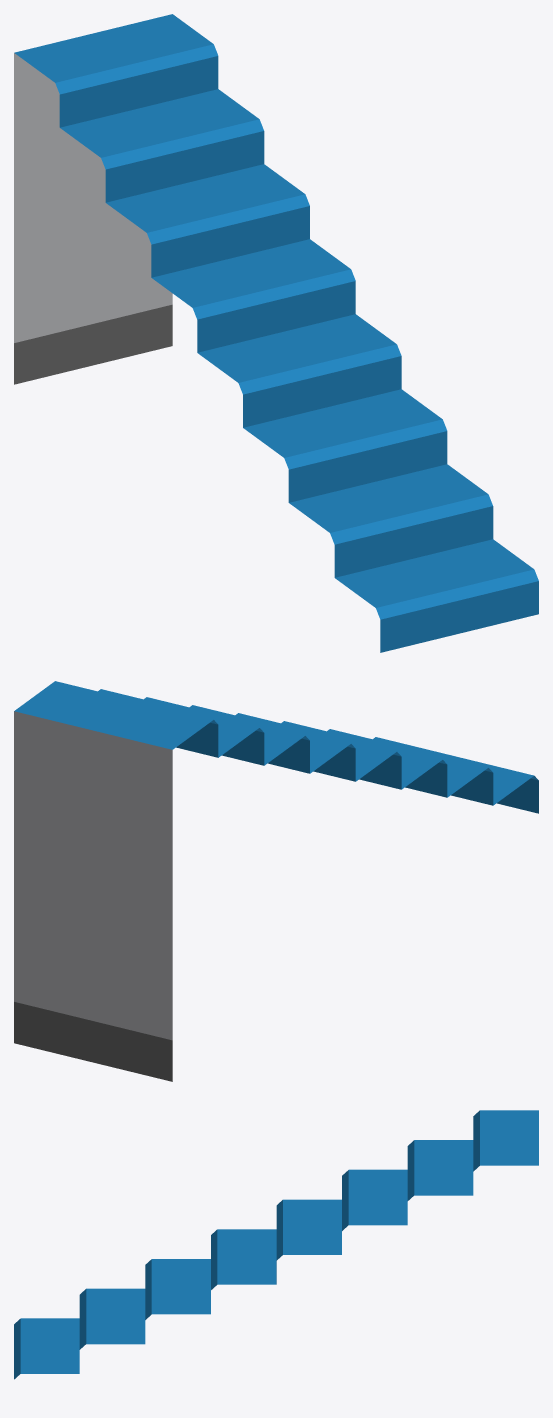
File: Stairs_Long_Modular_Center.fbx
The picture shows the model from 3 angles, top to bottom: view 1: azimuth 30°, elevation 25°; view 2: azimuth 150°, elevation 25°; view 3: azimuth 270°, elevation 25°; orthographic projection. The views are drawn at different scales.
Parts seen in each view (by area): view 1: Stairs_Long_Modular_Center; view 2: Stairs_Long_Modular_Center; view 3: Stairs_Long_Modular_Center.
Boxes of the visible parts, x1,y1,x2,y2 form: Stairs_Long_Modular_Center: [14, 14, 538, 652]; Stairs_Long_Modular_Center: [14, 681, 538, 1081]; Stairs_Long_Modular_Center: [14, 1110, 538, 1379].
Bounding box in the file's own units: 0.388 × 0.776 × 1.55.
1 material, 1 textured.
